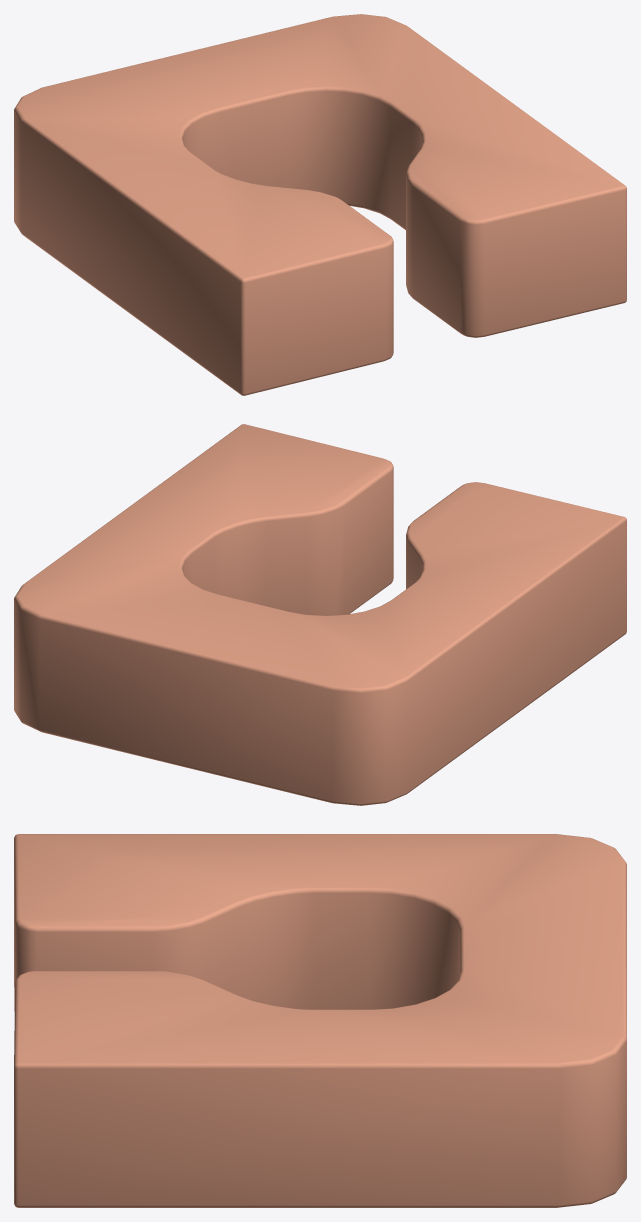
Rendered from island_lv8_2.fbx.
3 views of the same model, one above another, from view 1: azimuth 30°, elevation 25°; view 2: azimuth 150°, elevation 25°; view 3: azimuth 270°, elevation 25° (orthographic). The views are drawn at different scales.
Parts seen in each view (by area): view 1: island_lv8_2; view 2: island_lv8_2; view 3: island_lv8_2.
Boxes of the visible parts, x1,y1,x2,y2 form: island_lv8_2: (14,14,626,395); island_lv8_2: (14,424,626,805); island_lv8_2: (14,834,626,1207).
Size of the model in its own units: 1720 by 500 by 1921.
